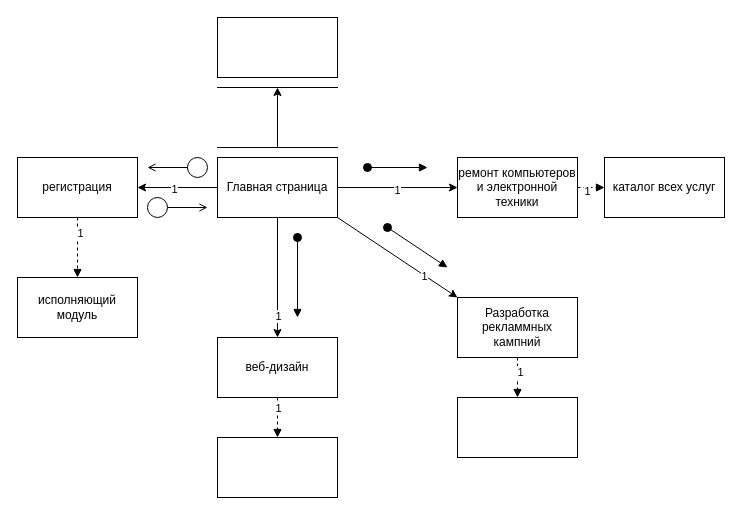
Some shapes in this 742 by 515 pixel diagram are drawn without their labels. Each missing label, with the centre of its shape:
"каталог разработки веб-сайтов" belongs at (277,467).
"каталог художественных картин" belongs at (517,427).
"хостинг" belongs at (277,47).
